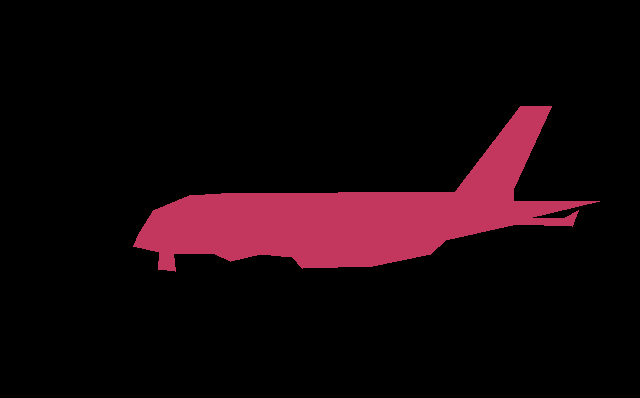Airplane: (133, 106, 600, 271)
